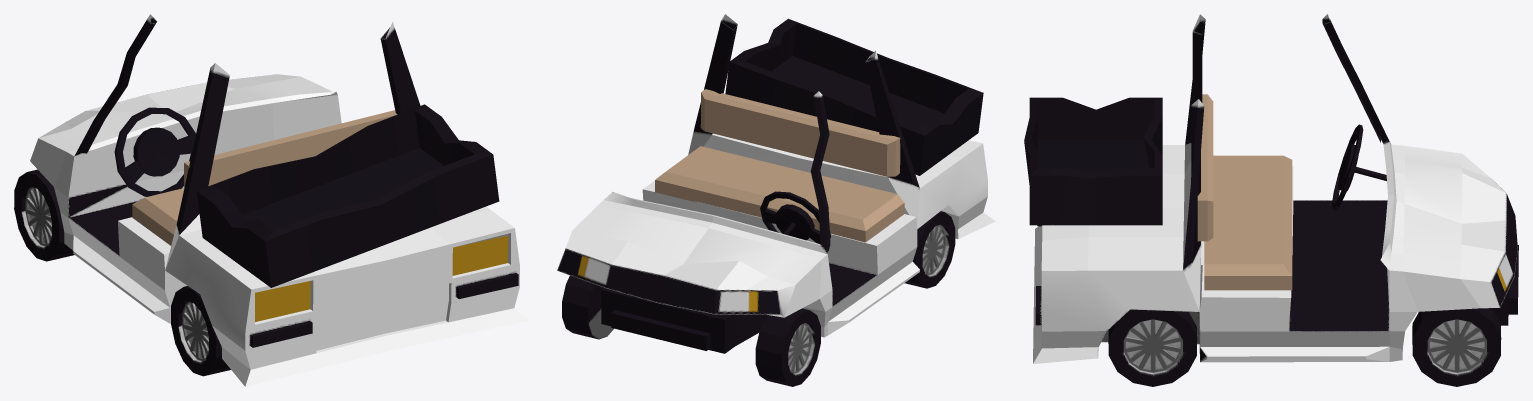
The model's file is Caddie_damaged_2.fbx.
3 renders of one model, left to right at view 1: azimuth 30°, elevation 25°; view 2: azimuth 150°, elevation 25°; view 3: azimuth 270°, elevation 25°, orthographic. The views are drawn at different scales.
Visible parts, largest first — view 1: car_DAMAGE 2; view 2: car_DAMAGE 2; view 3: car_DAMAGE 2.
Part boxes in pixels (x1,y1,x2,y2): car_DAMAGE 2: (14,14,528,386); car_DAMAGE 2: (557,14,995,386); car_DAMAGE 2: (1024,14,1518,386).
Size of the model in its own units: 136 by 127 by 208.
